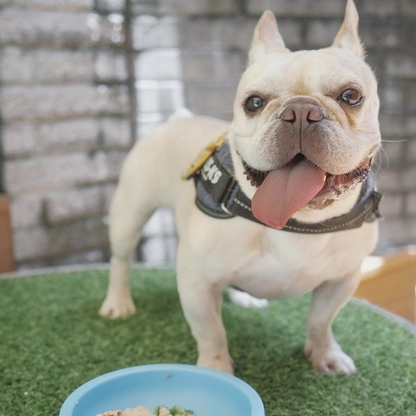bulldog: (93, 1, 382, 380)
